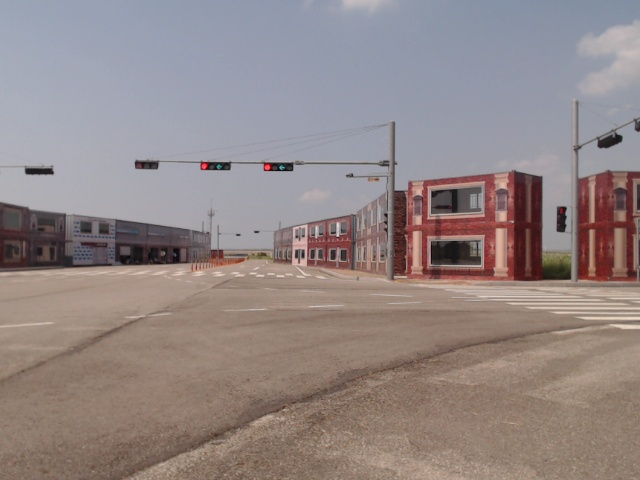left_green_4: (201, 163, 230, 170), (264, 164, 293, 171)
